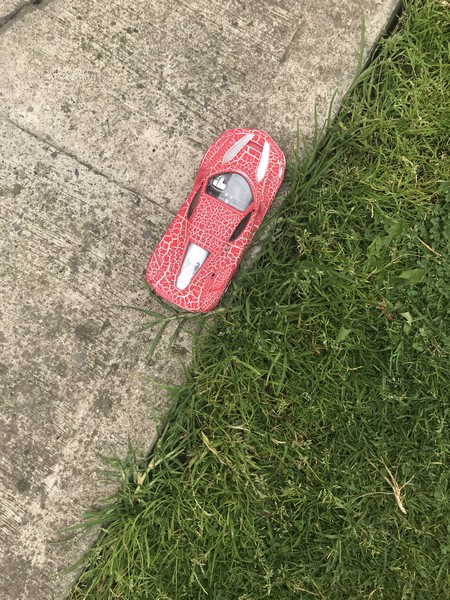RC: (142, 128, 291, 317)
